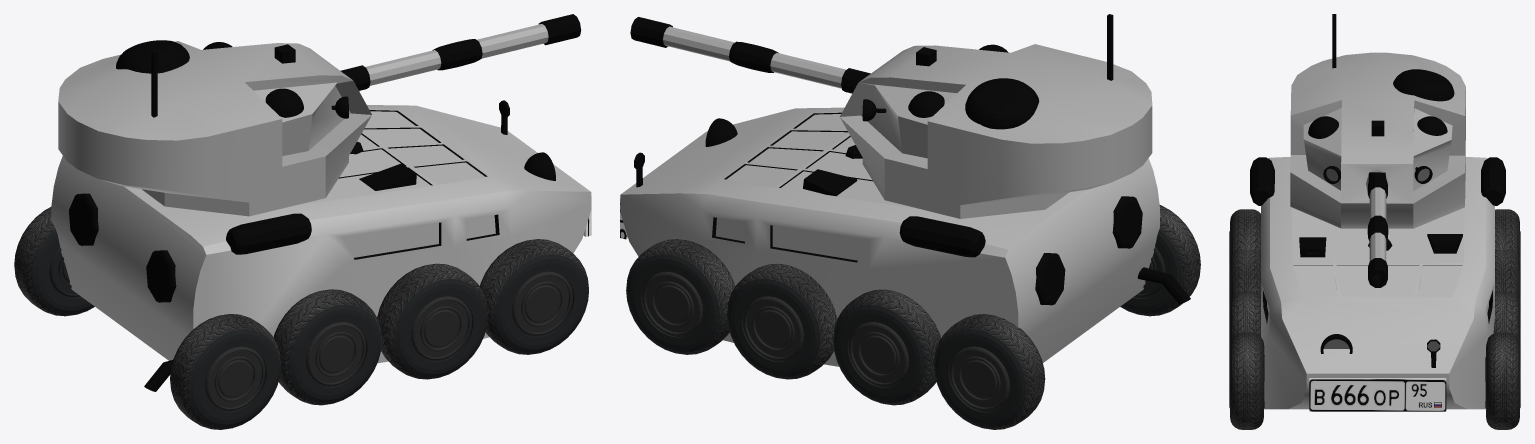
File: SpeedTank.fbx
3 views of the same model, side by side, from view 1: azimuth 30°, elevation 25°; view 2: azimuth 150°, elevation 25°; view 3: azimuth 270°, elevation 25° (orthographic). The views are drawn at different scales.
Visible parts, largest first — view 1: Cube, Circle.003, Circle.001, Cylinder, Circle.002, Cylinder.002, Sphere.002, Sphere, Sphere.007; view 2: Cube, Circle.003, Circle.001, Cylinder, Sphere.002, Circle.002, Cylinder.002, Cube.003, Cylinder.003, Sphere.001, Sphere.007; view 3: Cube, Circle.001, Circle.003, Cube.005, Cylinder, Cylinder.002, Sphere.002, Cube.003, Sphere, Sphere.003, Sphere.001, Sphere.007.
Boxes of the visible parts, x1=… form: Cube: x1=51, y1=105, x2=591, y2=363; Circle.003: x1=14, y1=207, x2=588, y2=429; Circle.001: x1=58, y1=41, x2=371, y2=216; Cylinder: x1=340, y1=14, x2=581, y2=90; Circle.002: x1=69, y1=193, x2=176, y2=302; Cylinder.002: x1=226, y1=213, x2=311, y2=254; Sphere.002: x1=116, y1=40, x2=189, y2=73; Sphere: x1=265, y1=88, x2=303, y2=117; Sphere.007: x1=524, y1=152, x2=555, y2=180; Cube: x1=620, y1=107, x2=1159, y2=366; Circle.003: x1=626, y1=205, x2=1200, y2=429; Circle.001: x1=840, y1=44, x2=1152, y2=218; Cylinder: x1=630, y1=17, x2=870, y2=93; Sphere.002: x1=965, y1=78, x2=1039, y2=129; Circle.002: x1=1035, y1=196, x2=1142, y2=305; Cylinder.002: x1=899, y1=216, x2=985, y2=257; Cube.003: x1=803, y1=169, x2=857, y2=196; Cylinder.003: x1=1137, y1=267, x2=1190, y2=304; Sphere.001: x1=908, y1=91, x2=944, y2=117; Sphere.007: x1=705, y1=118, x2=737, y2=146; Cube: x1=1261, y1=156, x2=1494, y2=409; Circle.001: x1=1290, y1=52, x2=1465, y2=228; Circle.003: x1=1229, y1=209, x2=1520, y2=429; Cube.005: x1=1309, y1=378, x2=1446, y2=411; Cylinder: x1=1367, y1=172, x2=1388, y2=287; Cylinder.002: x1=1250, y1=157, x2=1505, y2=205; Sphere.002: x1=1393, y1=69, x2=1454, y2=101; Cube.003: x1=1427, y1=234, x2=1462, y2=253; Sphere: x1=1308, y1=116, x2=1338, y2=138; Sphere.003: x1=1323, y1=166, x2=1432, y2=183; Sphere.001: x1=1417, y1=116, x2=1447, y2=135; Sphere.007: x1=1320, y1=334, x2=1352, y2=353.
Size of the model in its own units: 817 by 528 by 499.
